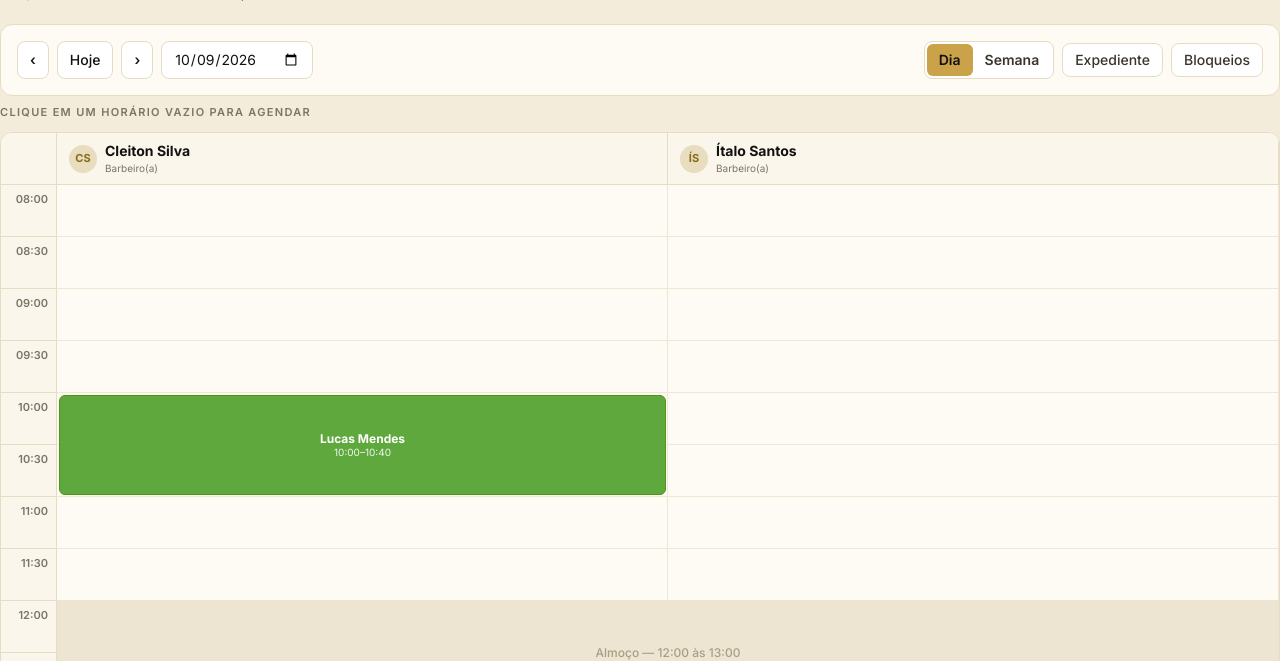
Agenda — visão semana › agendamentos e bloqueios aparecem na semana
The image size is (1280, 661).
Step 1. Click the button "Semana" → [1012, 60], box 972,44 -> 1051,76
(page scrolled)
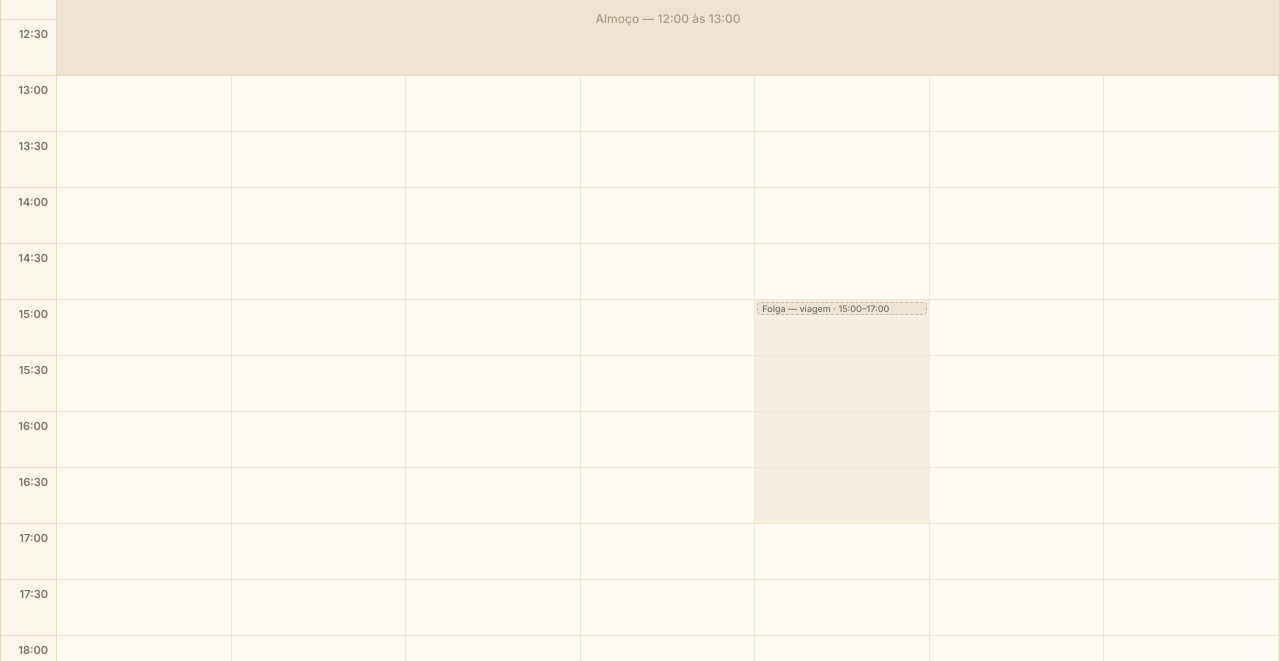
Expected: the text "Folga — viagem · 15:00–17:00" is shown, 757,302 -> 927,315
